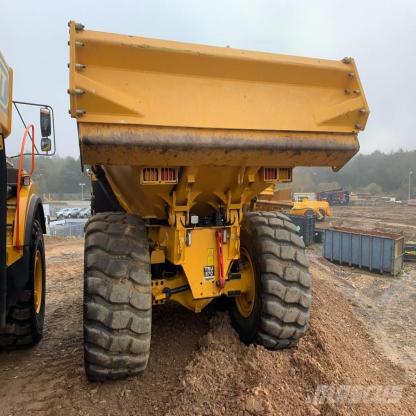dump_truck: (54, 9, 368, 385)
